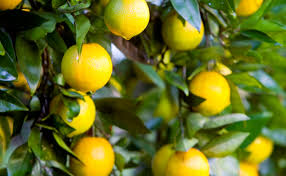orange: (59, 41, 113, 92), (47, 91, 98, 133), (187, 67, 231, 114), (69, 133, 117, 175), (100, 1, 151, 35), (162, 13, 206, 51), (167, 146, 211, 176)
